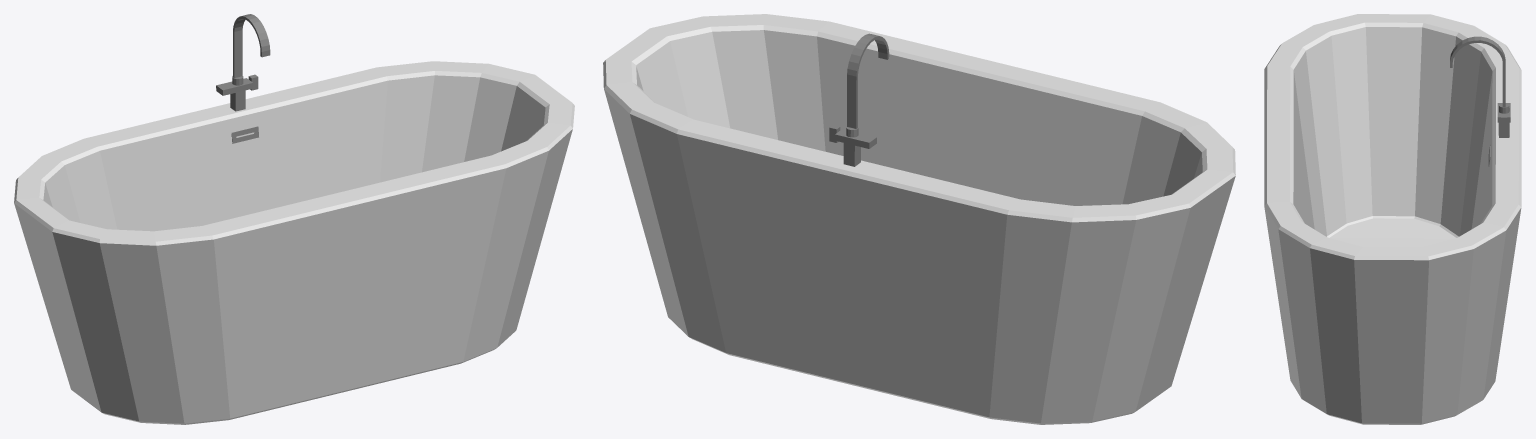
Rendered from Bathtub.glb.
3 views of the same model, side by side, from view 1: azimuth 30°, elevation 25°; view 2: azimuth 150°, elevation 25°; view 3: azimuth 270°, elevation 25° (orthographic). The views are drawn at different scales.
Visible parts, largest first — view 1: Bathtub; view 2: Bathtub; view 3: Bathtub.
Boxes of the visible parts, left/top/right/bottom form: Bathtub: left=14, top=14, right=574, bottom=424; Bathtub: left=603, top=14, right=1235, bottom=424; Bathtub: left=1264, top=14, right=1521, bottom=424.
Size of the model in its own units: 1.42 by 0.7883 by 0.6315.
Materials: 1 (1 with a texture image).
